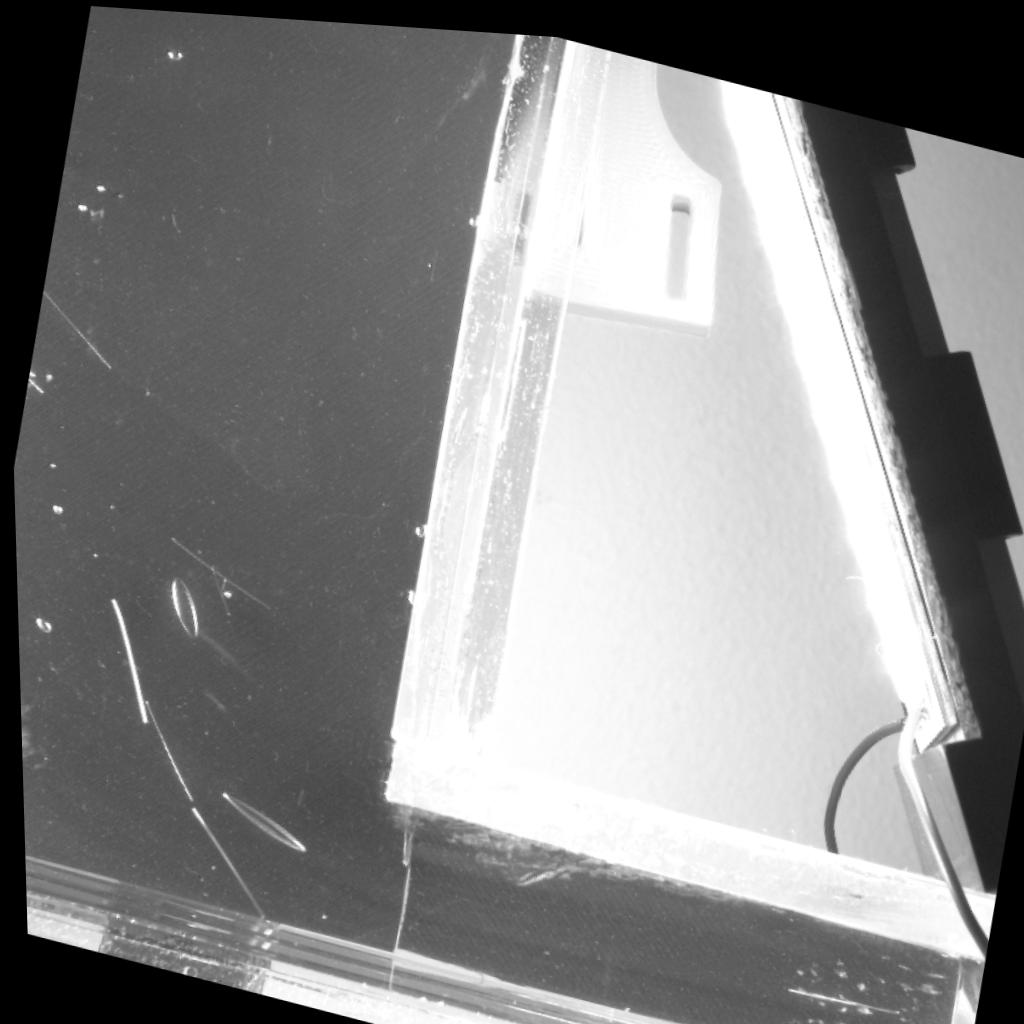Fiber: (183, 800, 263, 919), (161, 534, 270, 606), (41, 289, 110, 367), (105, 597, 146, 723), (140, 698, 189, 798), (784, 975, 898, 1003), (25, 377, 41, 396)
